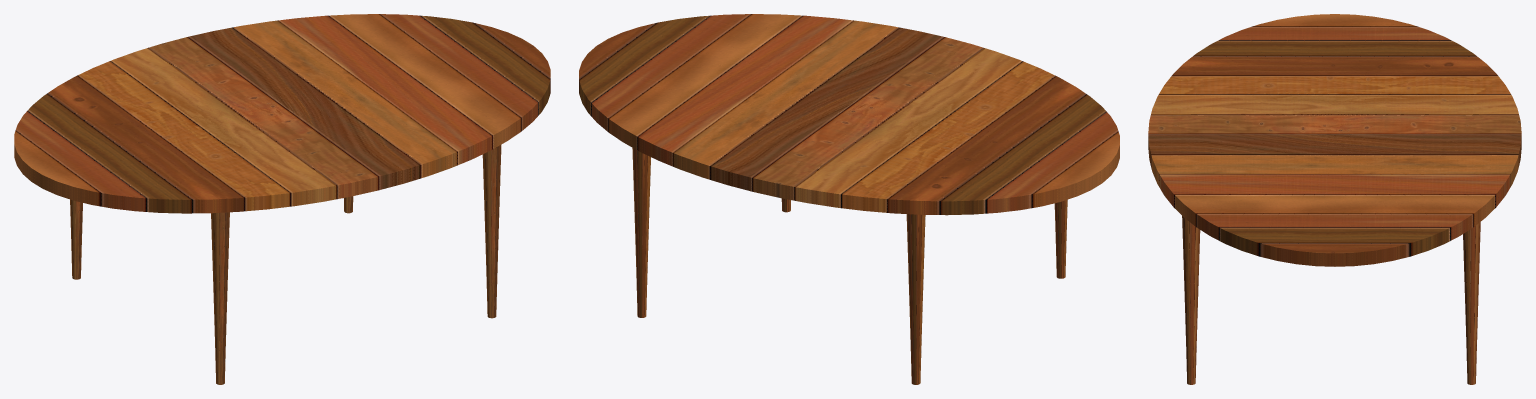
Rendered from table.FBX.
3 renders of one model, left to right at view 1: azimuth 30°, elevation 25°; view 2: azimuth 150°, elevation 25°; view 3: azimuth 270°, elevation 25°, orthographic. The views are drawn at different scales.
Visible parts, largest first — view 1: TableTop, FrontLeftLeg, FrontRightLeg, BackLeftLeg; view 2: TableTop, BackLeftLeg, BackRightLeg, FrontLeftLeg; view 3: TableTop, FrontRightLeg, BackRightLeg.
Boxes of the visible parts, x1,y1,x2,y2 form: TableTop: [14, 14, 550, 213]; FrontLeftLeg: [211, 212, 229, 384]; FrontRightLeg: [482, 145, 501, 318]; BackLeftLeg: [70, 199, 82, 279]; TableTop: [579, 14, 1119, 215]; BackLeftLeg: [906, 214, 925, 384]; BackRightLeg: [632, 148, 650, 317]; FrontLeftLeg: [1054, 199, 1067, 278]; TableTop: [1148, 14, 1521, 266]; FrontRightLeg: [1182, 216, 1200, 384]; BackRightLeg: [1463, 222, 1480, 384].
Size of the model in its own units: 2.4 by 0.8626 by 1.58.
Materials: 1 (1 with a texture image).
